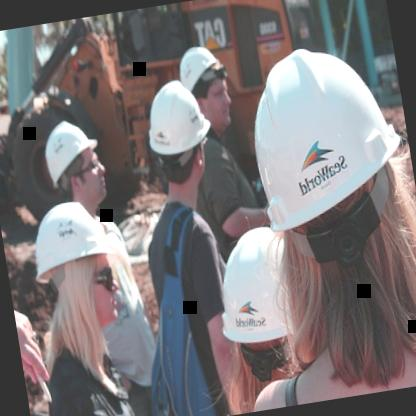helmet: (215, 10, 416, 297), (183, 202, 330, 403), (10, 164, 146, 366), (136, 58, 226, 183), (34, 103, 114, 219), (170, 25, 241, 142)
